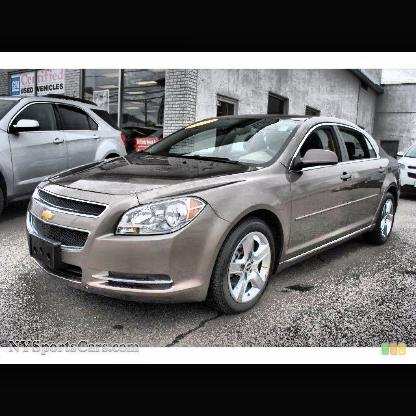Chevrolet Malibu Hybrid Sedan 2010: (27, 115, 404, 316)
